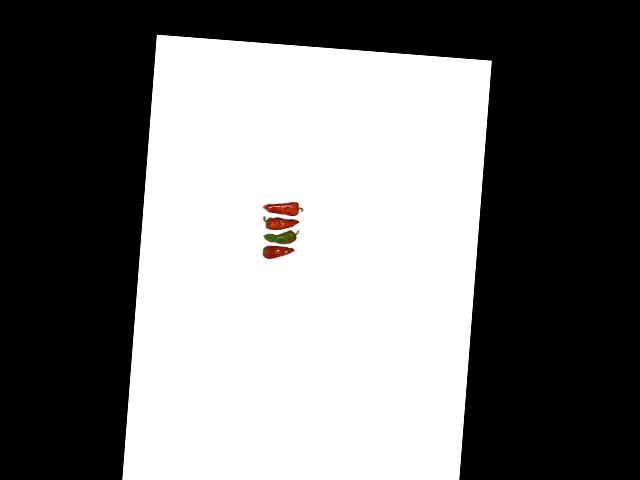bell_pepper: (261, 243, 298, 264)
